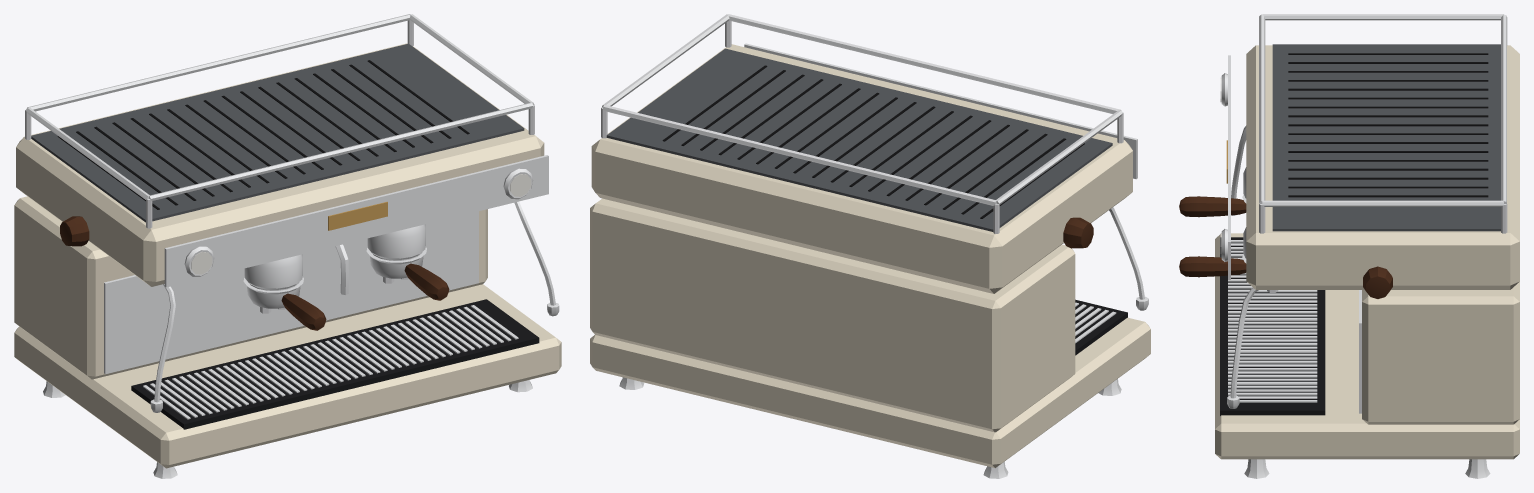
The model's file is espresso_cream.glb.
3 views of the same model, side by side, from view 1: azimuth 30°, elevation 25°; view 2: azimuth 150°, elevation 25°; view 3: azimuth 270°, elevation 25° (orthographic). The views are drawn at different scales.
Parts seen in each view (by area): view 1: cream_2g; view 2: cream_2g; view 3: cream_2g.
Boxes of the visible parts, x1,y1,x2,y2 form: cream_2g: (14, 14, 561, 478); cream_2g: (590, 14, 1150, 478); cream_2g: (1179, 14, 1519, 478).
Bounding box in the file's own units: 0.96 × 0.5858 × 0.648.
